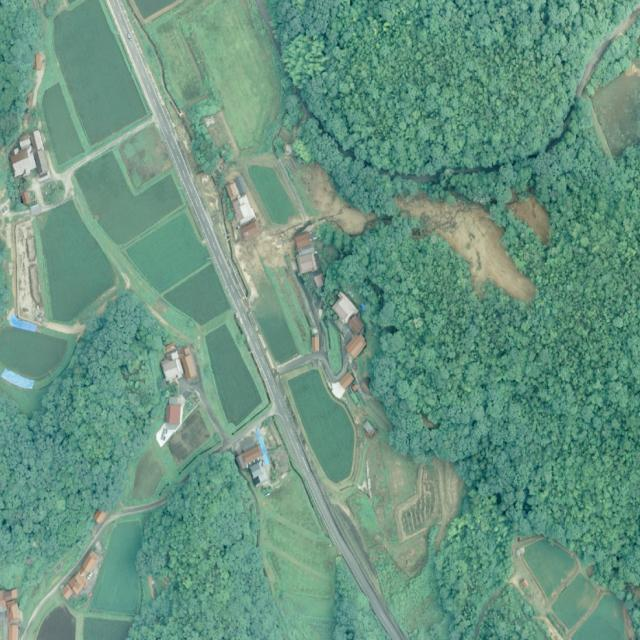landslide: (399, 194, 536, 301), (507, 196, 551, 243)
